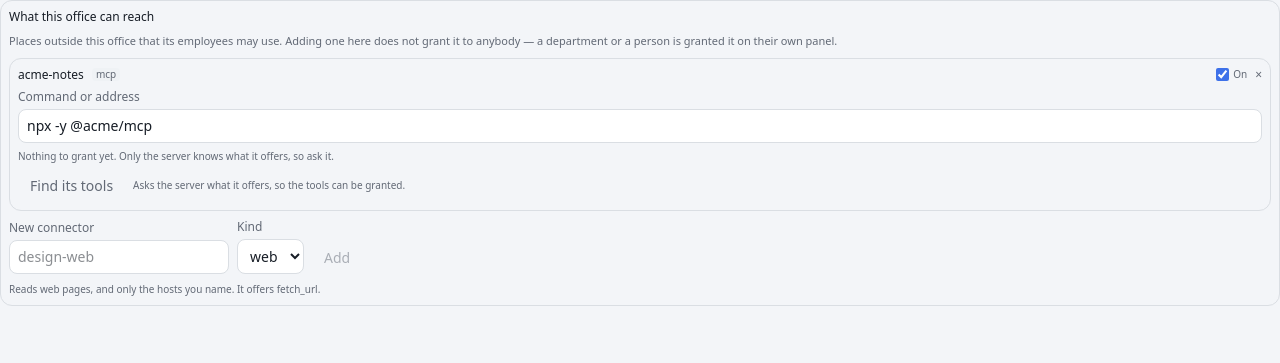
Scenario: finding out what an MCP server offers › says why it could not, because somebody pressed a button and is waiting
Click the button "Find its tools" at {"x": 72, "y": 186}, box [18, 170, 125, 202]
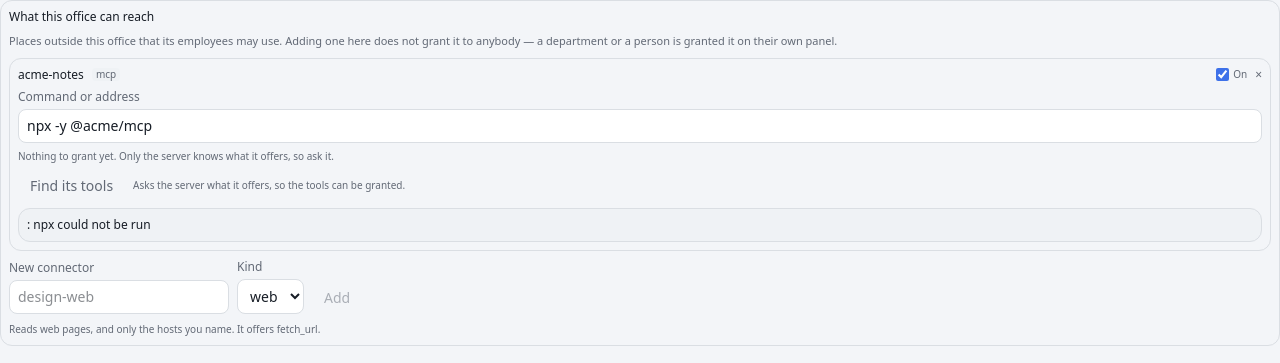
Now the message shows "could not be run", box [33, 216, 151, 232]
